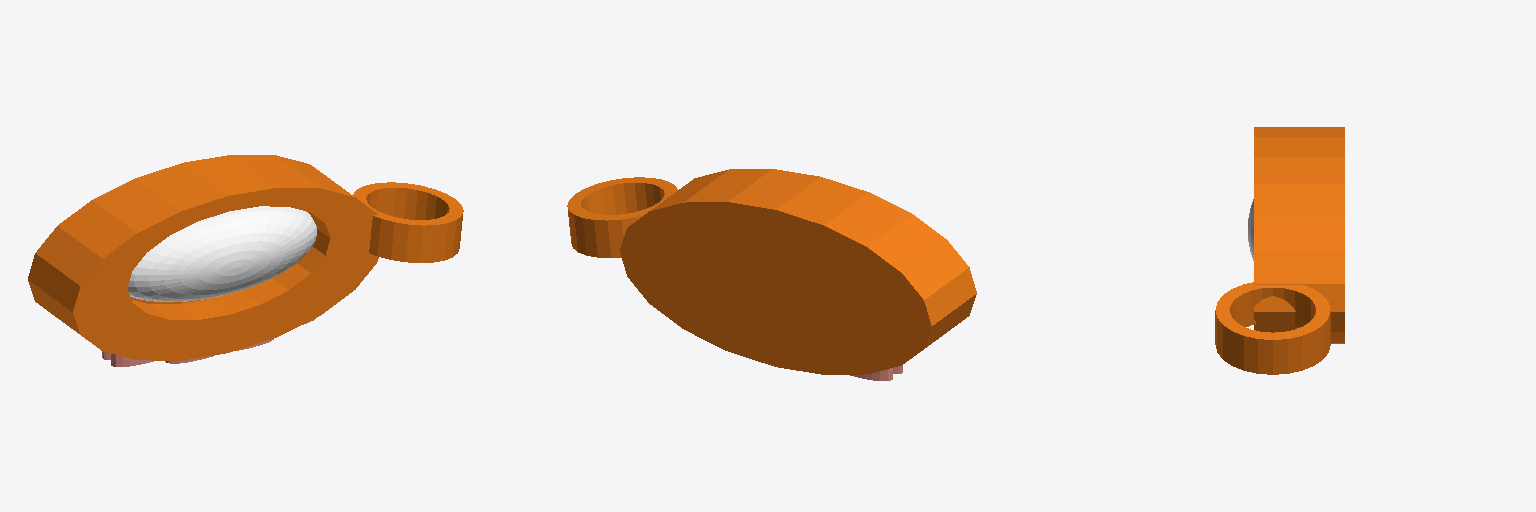
File: tinker.obj
3 renders of one model, left to right at view 1: azimuth 30°, elevation 25°; view 2: azimuth 150°, elevation 25°; view 3: azimuth 270°, elevation 25°, orthographic.
Visible parts, largest first — view 1: obj_0; view 2: obj_0; view 3: obj_0.
Part boxes in pixels (x1,y1,x2,y2): obj_0: (28,155,463,366); obj_0: (567,169,976,380); obj_0: (1215,127,1344,374).
Bounding box in the file's own units: 98.09 × 38 × 28.